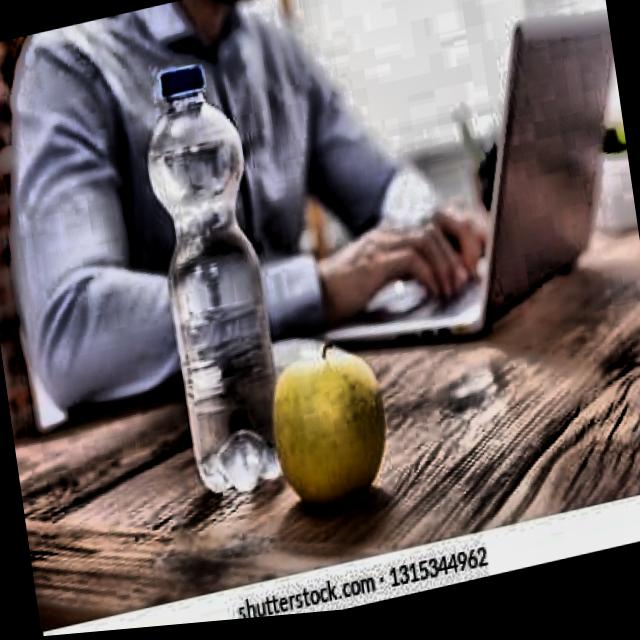Bottles: (128, 49, 300, 521)
